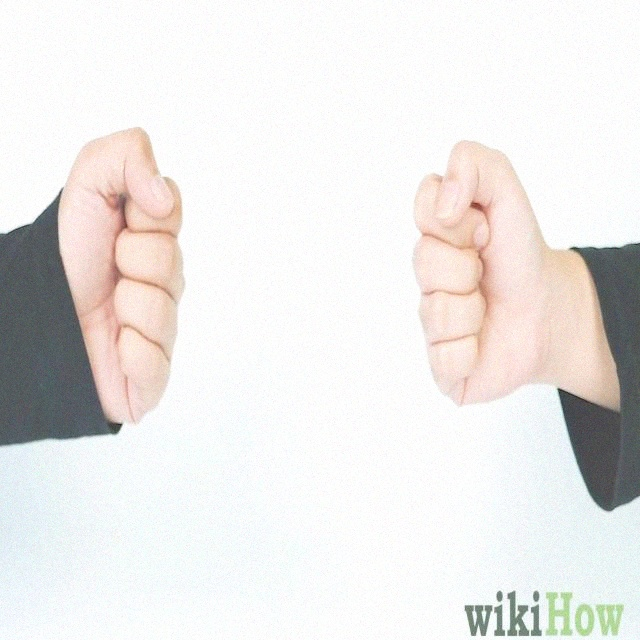Rock: (55, 122, 185, 423), (408, 136, 548, 409)
